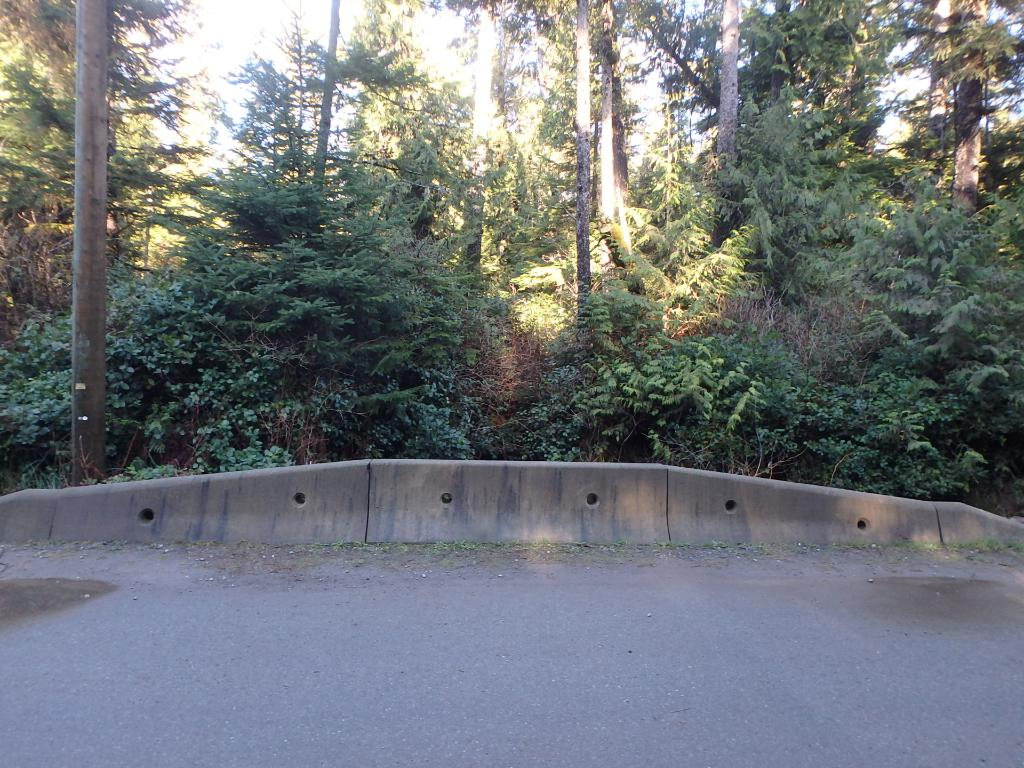Tree: (0, 48, 1024, 547), (55, 0, 123, 497), (925, 0, 1007, 225), (595, 5, 643, 302), (463, 0, 507, 316), (557, 0, 594, 339), (700, 0, 749, 254)
